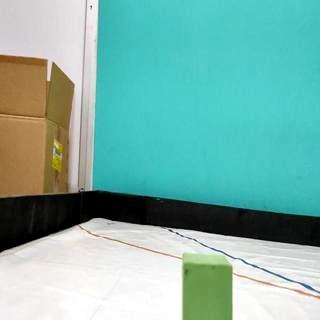greenbox: (180, 251, 234, 320)
